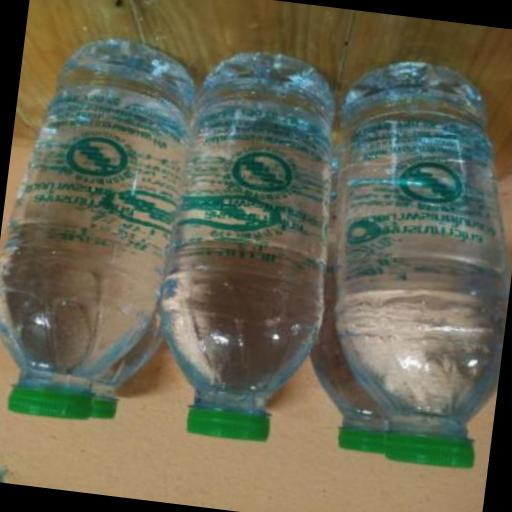Coca: (295, 44, 512, 483), (138, 37, 362, 458), (0, 21, 211, 440), (31, 29, 211, 436), (290, 98, 484, 468)
